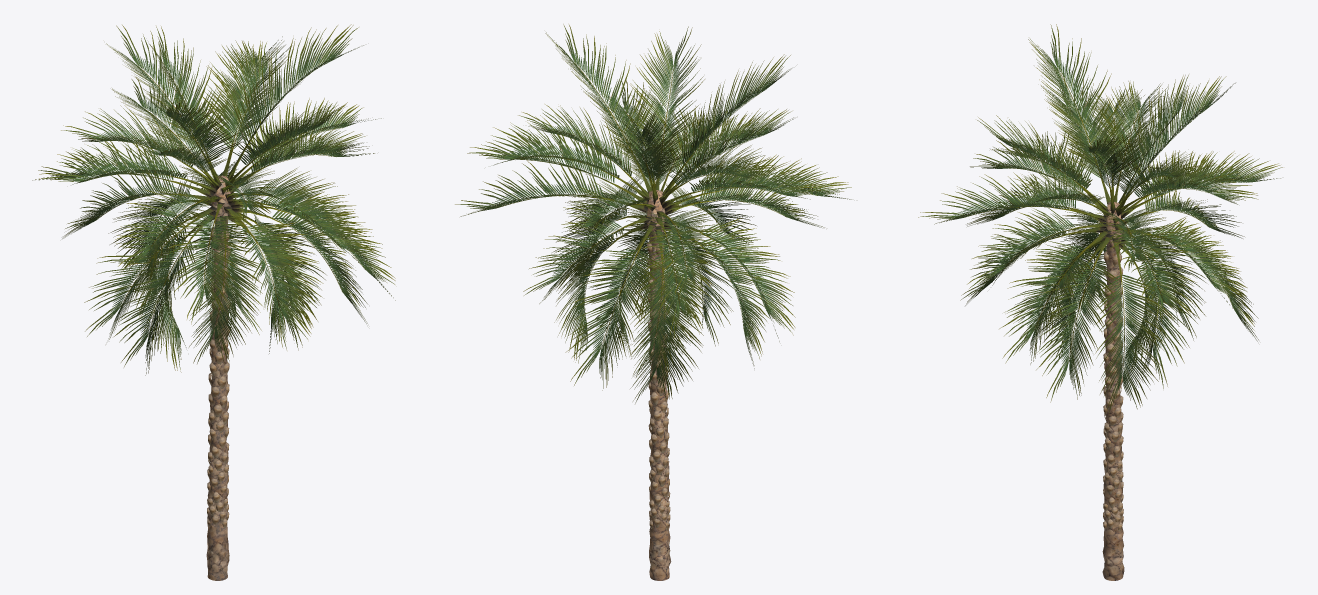
File: valley-date-palm.glb
3 renders of one model, left to right at view 1: azimuth 30°, elevation 25°; view 2: azimuth 150°, elevation 25°; view 3: azimuth 270°, elevation 25°, orthographic. The views are drawn at different scales.
Parts seen in each view (by area): view 1: Tree_1_Tree_1Mat_0, Tree_0_Tree_0Mat_0, Tree_3_Tree_3Mat_0, Tree_2_Tree_2Mat_0; view 2: Tree_1_Tree_1Mat_0, Tree_0_Tree_0Mat_0, Tree_3_Tree_3Mat_0, Tree_2_Tree_2Mat_0; view 3: Tree_1_Tree_1Mat_0, Tree_0_Tree_0Mat_0, Tree_2_Tree_2Mat_0, Tree_3_Tree_3Mat_0.
Boxes of the visible parts, x1,y1,x2,y2 form: Tree_1_Tree_1Mat_0: [32, 24, 395, 375]; Tree_0_Tree_0Mat_0: [206, 175, 230, 580]; Tree_3_Tree_3Mat_0: [155, 129, 293, 264]; Tree_2_Tree_2Mat_0: [207, 228, 230, 528]; Tree_1_Tree_1Mat_0: [455, 24, 851, 403]; Tree_0_Tree_0Mat_0: [647, 190, 671, 580]; Tree_3_Tree_3Mat_0: [583, 140, 723, 289]; Tree_2_Tree_2Mat_0: [647, 241, 670, 530]; Tree_1_Tree_1Mat_0: [918, 24, 1282, 415]; Tree_0_Tree_0Mat_0: [1102, 202, 1124, 580]; Tree_2_Tree_2Mat_0: [1103, 251, 1123, 531]; Tree_3_Tree_3Mat_0: [1049, 156, 1167, 292].
Size of the model in its own units: 5.46 by 7.34 by 5.21.
Materials: 4 (4 with a texture image).
